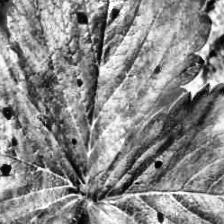Leaf Spot: (5, 0, 213, 196), (72, 81, 224, 224), (0, 23, 85, 224)
